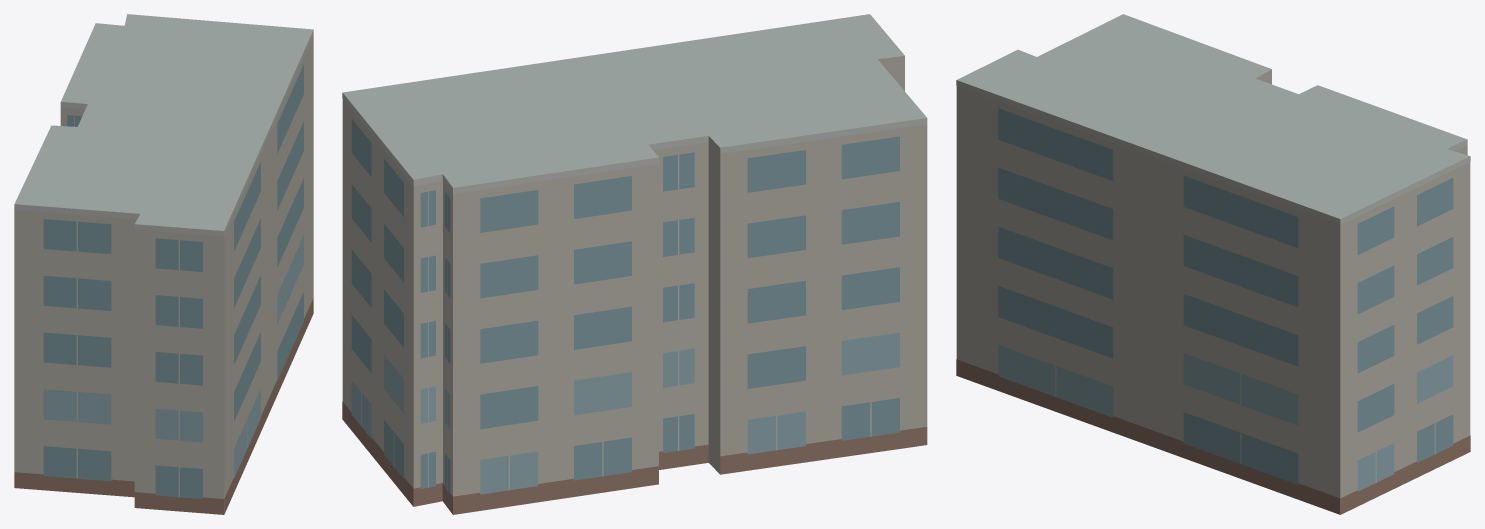
The model's file is survey-upis-32623418.glb.
The picture shows the model from 3 angles, left to right: view 1: azimuth 30°, elevation 25°; view 2: azimuth 150°, elevation 25°; view 3: azimuth 270°, elevation 25°; orthographic projection. The views are drawn at different scales.
Visible parts, largest first — view 1: survey-upis-32623418.tmp; view 2: survey-upis-32623418.tmp; view 3: survey-upis-32623418.tmp.
Part boxes in pixels (x1,y1,x2,y2): survey-upis-32623418.tmp: [14, 14, 313, 514]; survey-upis-32623418.tmp: [342, 14, 927, 514]; survey-upis-32623418.tmp: [956, 14, 1470, 514].
Size of the model in its own units: 18.9 by 12.7 by 20.01.
